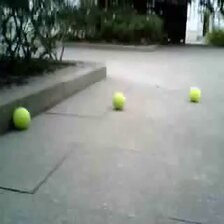tennis: (12, 108, 31, 127), (187, 87, 201, 103), (112, 94, 126, 109)
